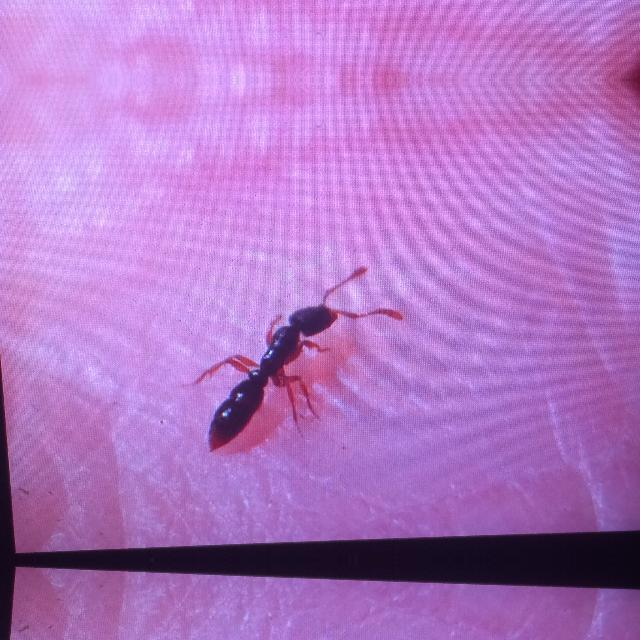Ponera: (170, 215, 374, 490)
